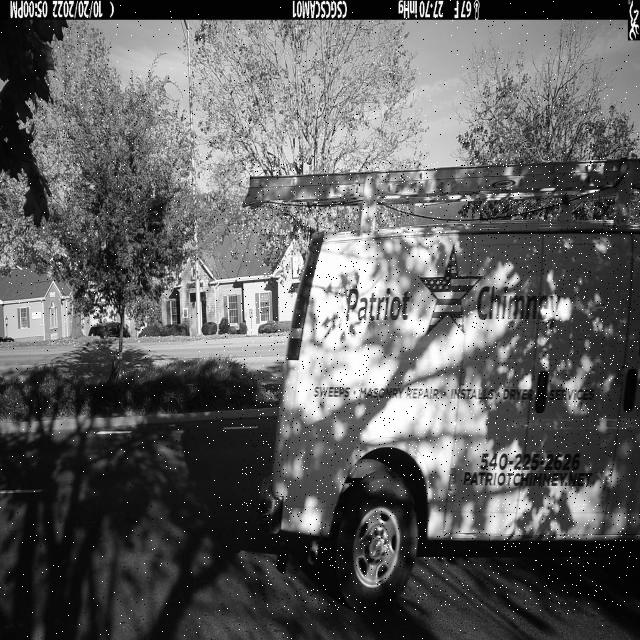Van: (241, 157, 640, 614)
